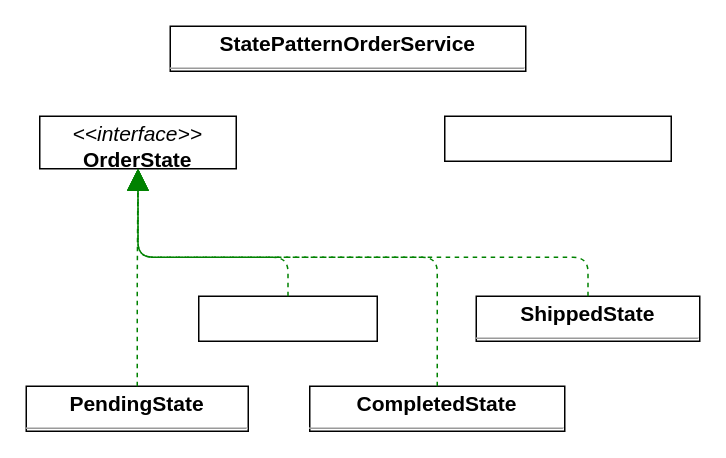
This 726x458 diagram has some shape labels left out. Each missing label, with the centre of its shape:
OrderContext: pixel 557 138
PaidState: pixel 287 318
